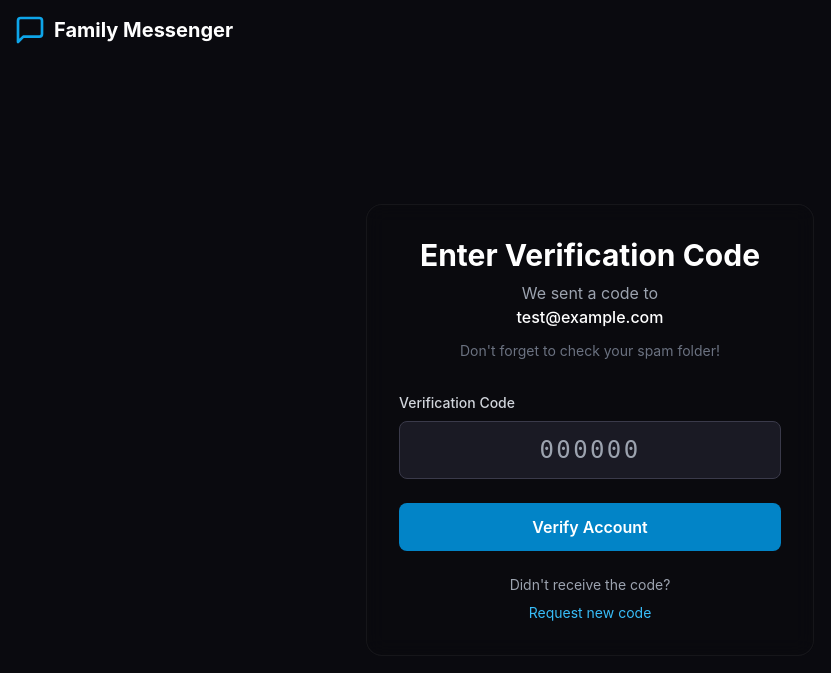
Scenario: Confirm Page › shows loading state while verifying
In the field labelled "Verification Code": (590, 450) 399,421 -> 781,479, type "123456"
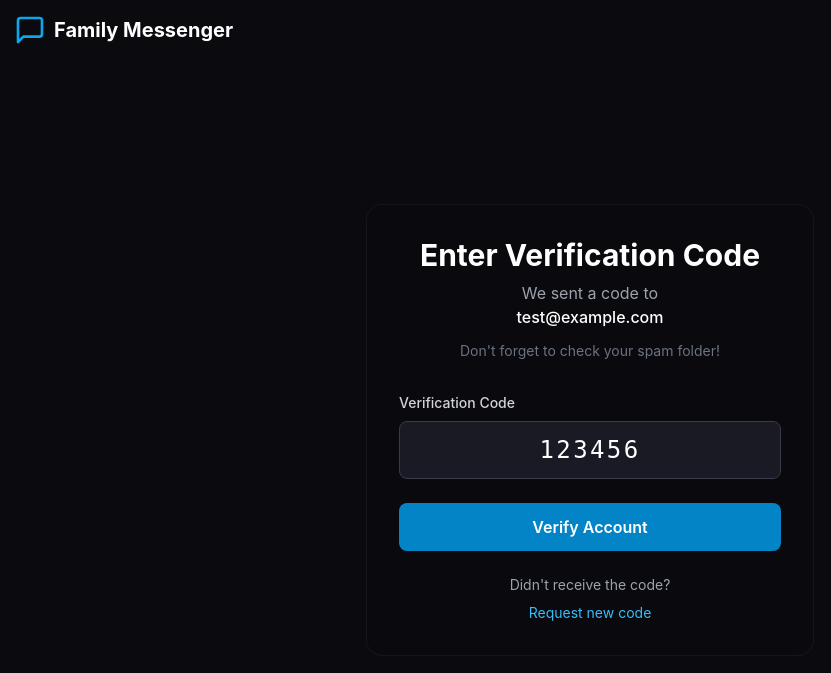
Click the button "Verify Account": click(590, 527) 399,503 -> 781,551
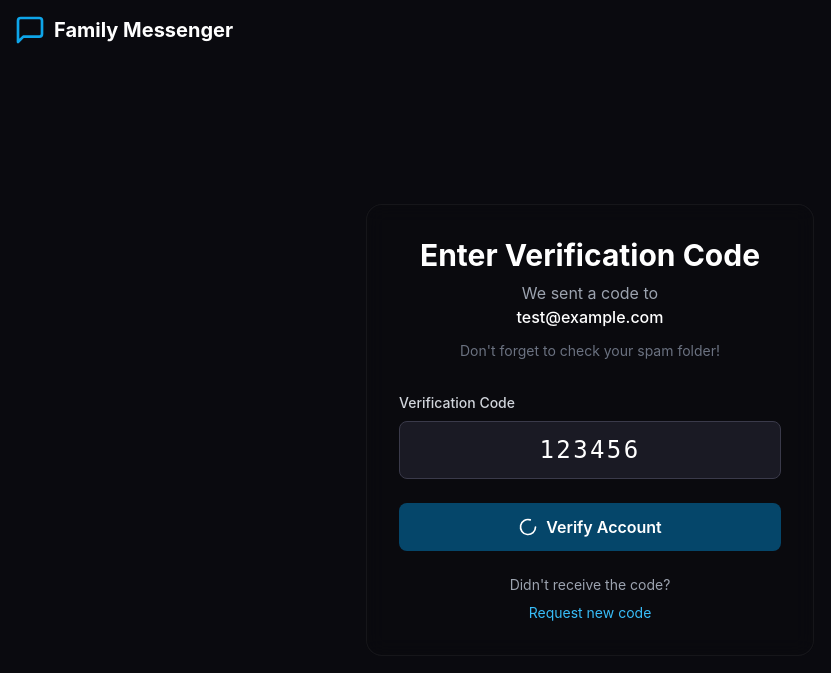
Now the button "Verify Account" is disabled, box 399,503 -> 781,551
